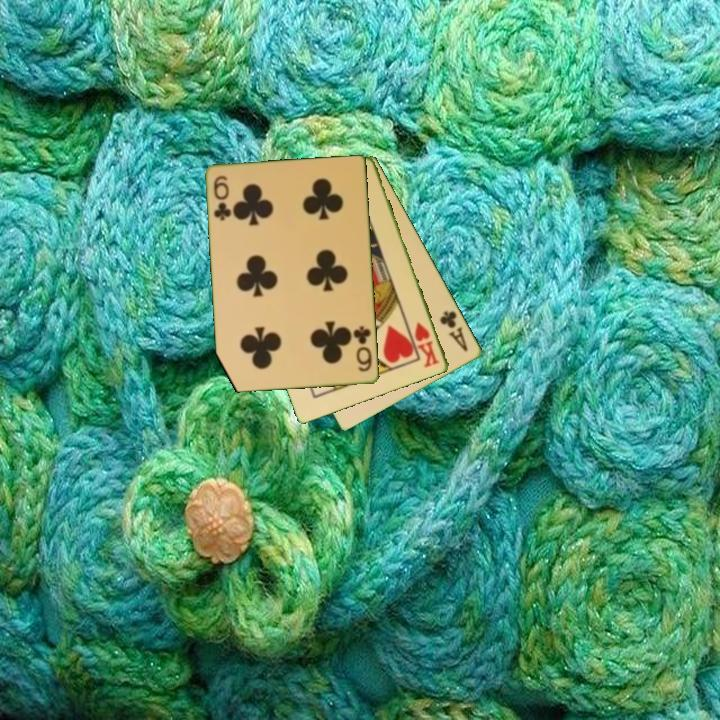6c: (350, 323, 375, 375), (210, 173, 234, 224)
Ac: (436, 307, 471, 354)
Kh: (411, 319, 443, 370)
